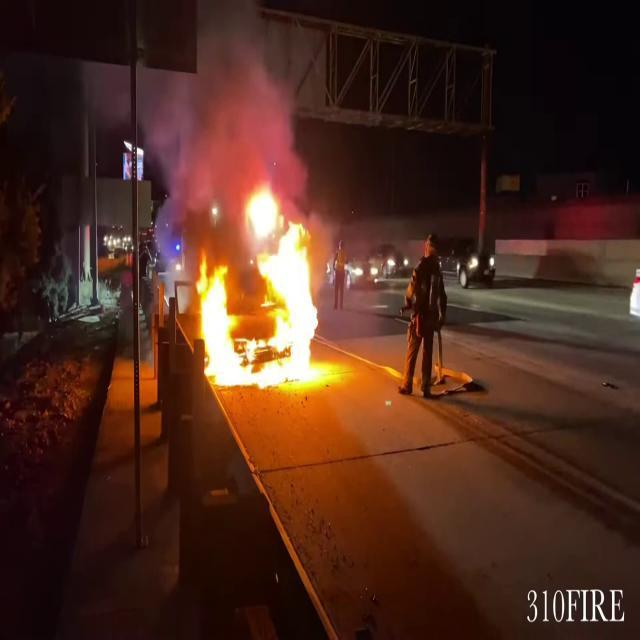Fire: (189, 214, 334, 394)
Smoke: (160, 0, 312, 256)
